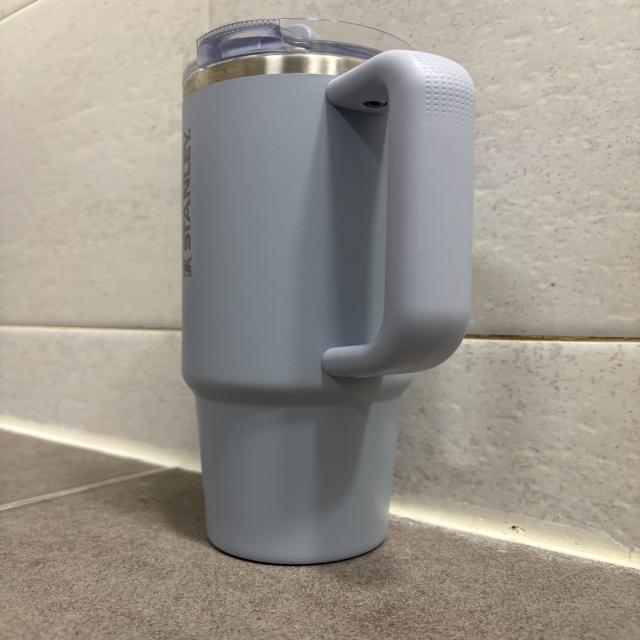waterbottle: (180, 18, 467, 565)
